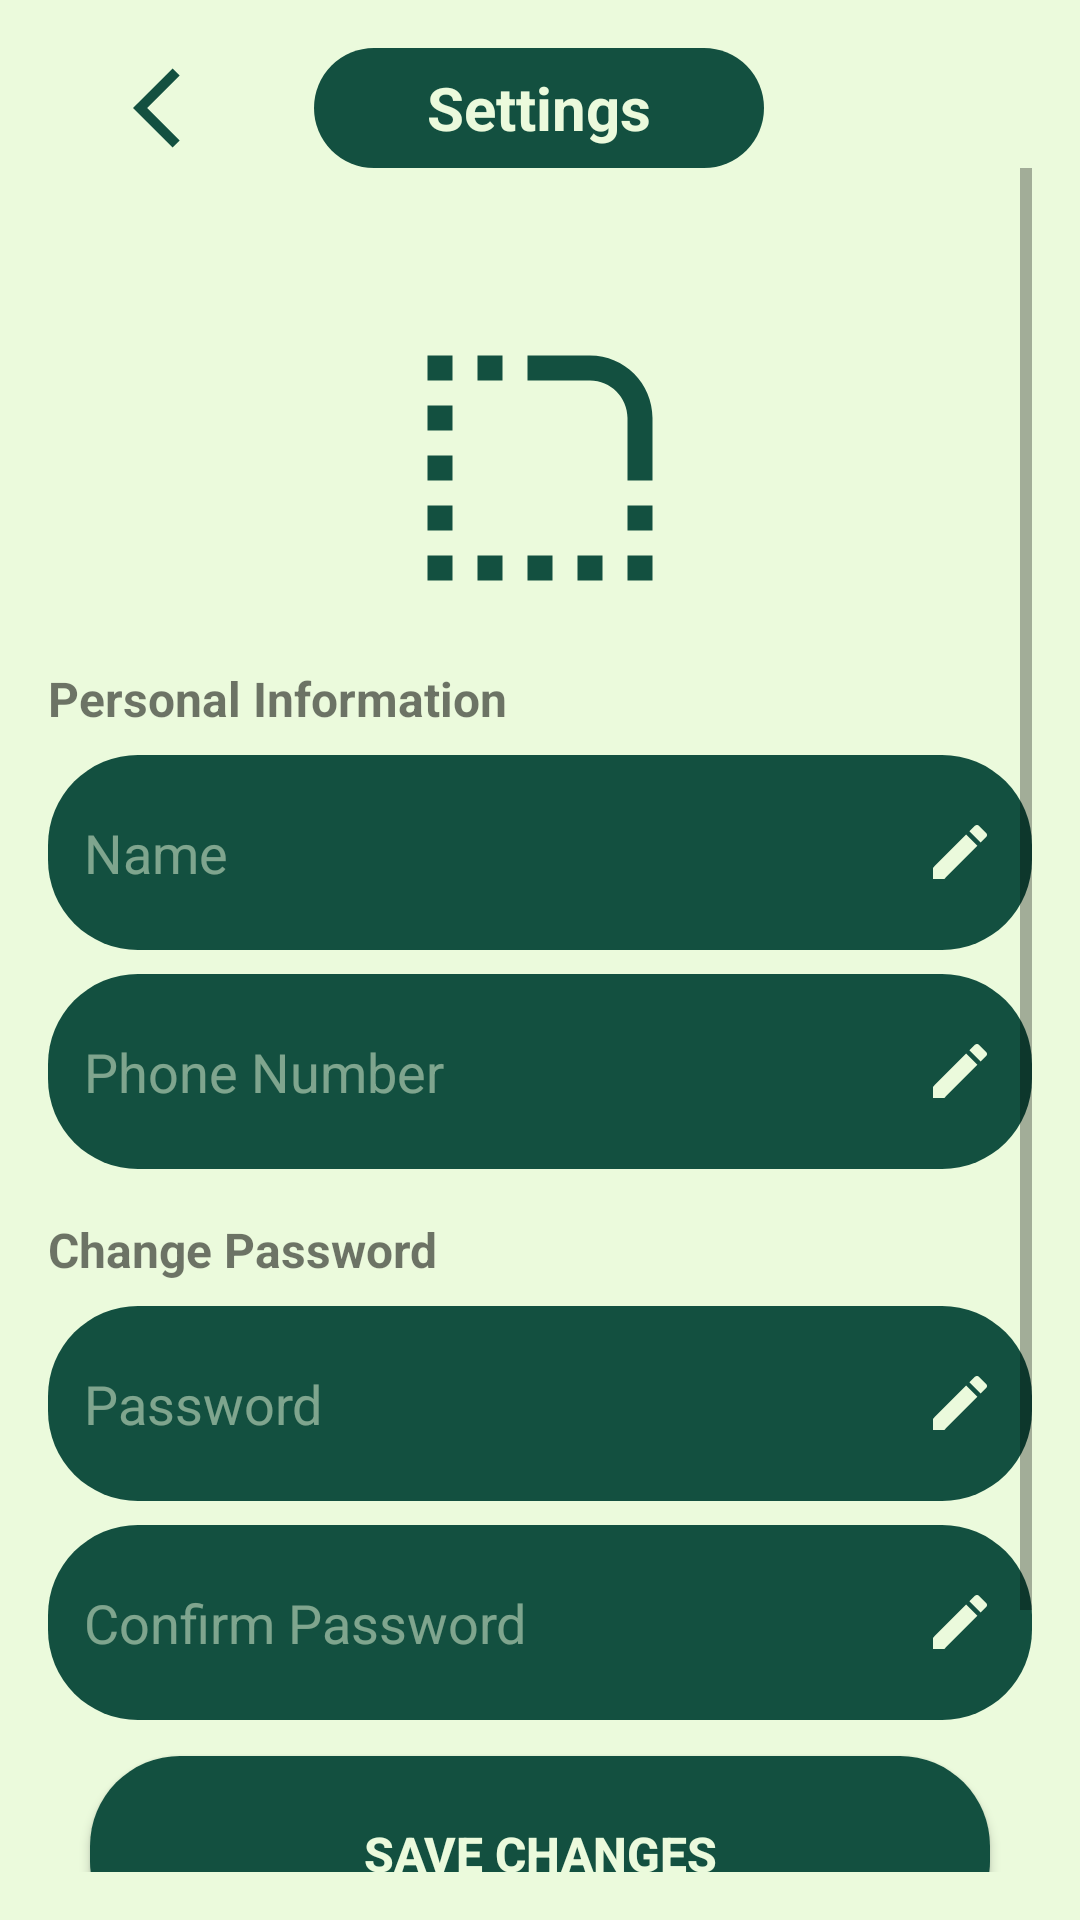

Screen size 1080x1920. Icon name, then its center in pixels as (x,y):
corner: (540,468)
Left Icon: (156,108)
